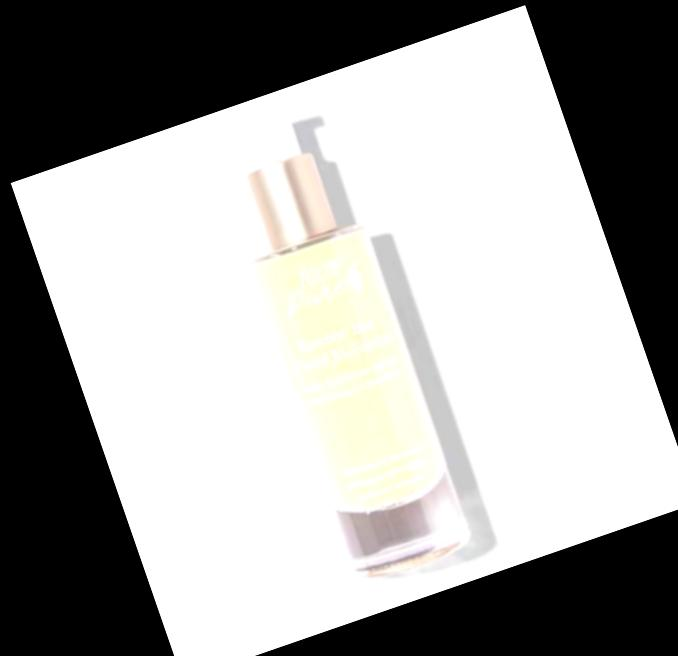cosmetic: (200, 98, 474, 579)
